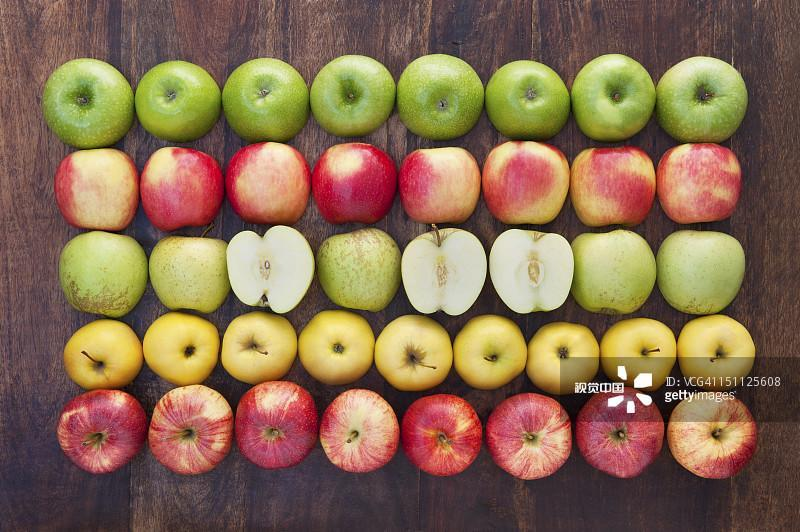apple: (40, 56, 135, 149), (58, 386, 149, 477), (653, 56, 747, 144), (481, 133, 569, 227), (578, 388, 663, 481), (145, 385, 233, 474), (233, 380, 320, 470), (666, 394, 757, 480), (400, 228, 488, 316), (569, 142, 656, 231), (568, 53, 655, 142), (654, 228, 744, 314), (396, 54, 484, 141), (219, 57, 309, 142), (484, 393, 571, 480), (59, 230, 147, 316), (227, 226, 315, 312), (139, 143, 223, 233), (314, 225, 401, 311), (570, 227, 657, 313), (308, 53, 395, 139), (489, 228, 574, 316), (133, 57, 221, 142), (316, 385, 399, 475), (655, 140, 742, 225), (399, 391, 484, 478), (224, 140, 310, 225), (53, 146, 139, 231), (310, 141, 396, 225), (483, 59, 570, 142), (146, 234, 230, 313), (397, 145, 480, 224), (373, 313, 452, 390), (296, 309, 374, 385), (141, 311, 220, 385), (600, 315, 677, 390), (218, 310, 296, 384), (451, 314, 526, 390), (63, 318, 142, 390), (524, 321, 599, 396), (675, 313, 754, 383)
